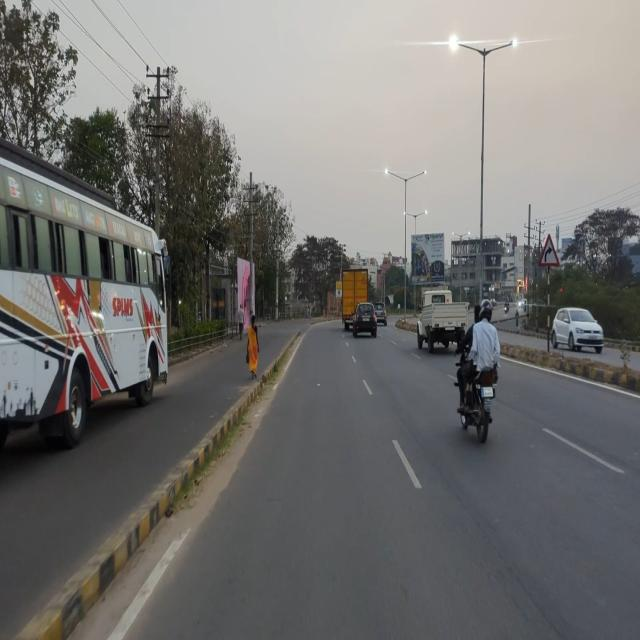bien_cam: (538, 234, 560, 268)
